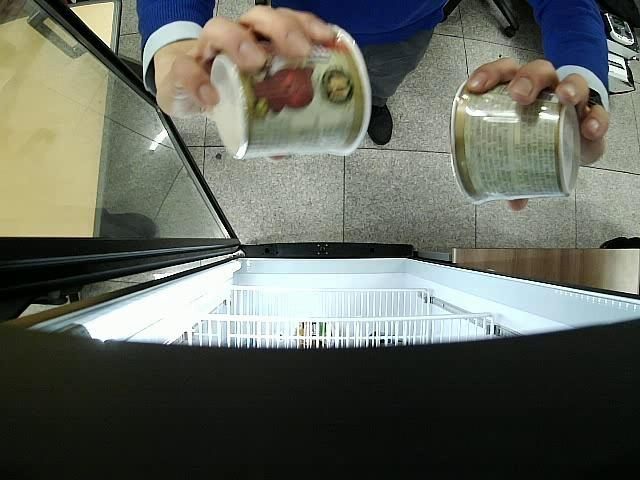04_chapagetti_S: (208, 23, 371, 160), (450, 80, 582, 205)
